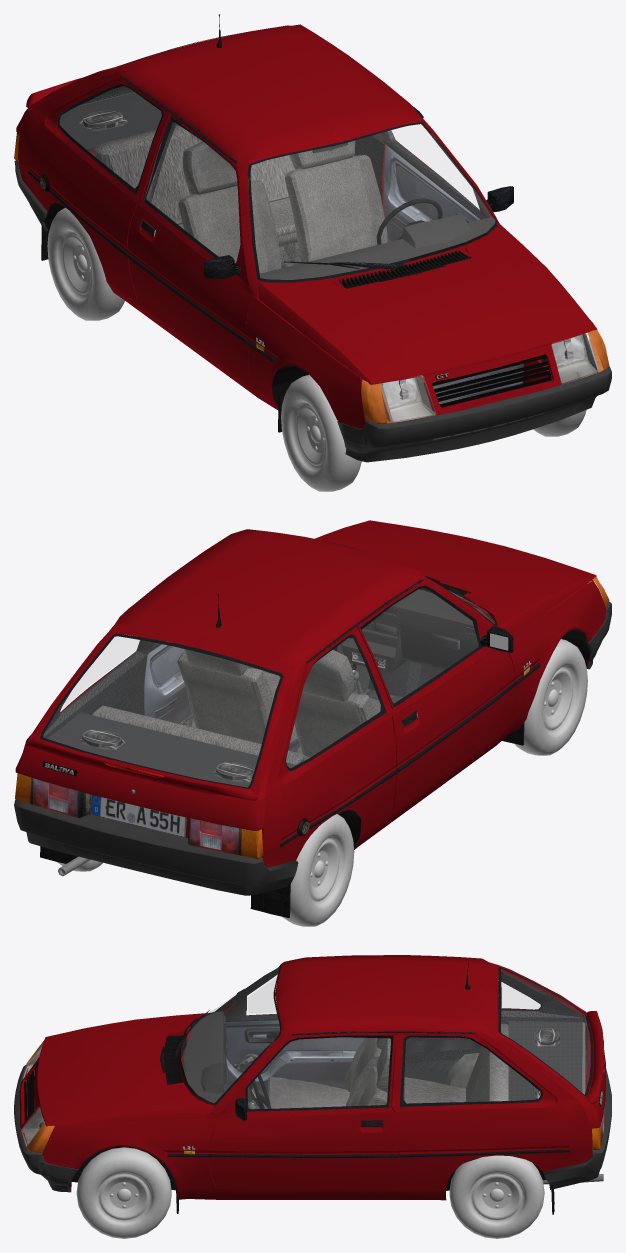
File: uploads_files_2875664_HatchBackLowPoly123.fbx
3 views of the same model, one above another, from view 1: azimuth 30°, elevation 25°; view 2: azimuth 150°, elevation 25°; view 3: azimuth 270°, elevation 25° (orthographic). The views are drawn at different scales.
Visible parts, largest first — view 1: chassis, salon, bonnet_ok, windscreen_ok, door_rf_ok, bump_front_ok, Quad_Wheel.003, door_lf_ok, Quad_Wheel.002, Plane, stekla_far, per_fari (+3 smaller); view 2: chassis, Boot, salon, door_rf_ok, bonnet_ok, bump_rear_ok, Quad_Wheel.002, Quad_Wheel.003, fari_zad, door_lf_ok, brizgov, bump_front_ok; view 3: chassis, door_lf_ok, salon, bonnet_ok, Boot, Quad_Wheel, door_rf_ok, Quad_Wheel.001, windscreen_ok, bump_rear_ok, bump_front_ok, stekla_far (+3 smaller).
Part boxes in pixels (x1,y1,x2,y2): chassis: (18,14,603,428); salon: (60,92,495,391); bonnet_ok: (257,223,597,384); windscreen_ok: (251,124,494,279); door_rf_ok: (126,113,251,381); bump_front_ok: (337,366,611,462); Quad_Wheel.003: (281,374,361,491); door_lf_ok: (382,117,513,241); Quad_Wheel.002: (47,207,124,320); Plane: (423,344,561,415); stekla_far: (361,324,609,423); per_fari: (361,332,603,423); chassis: (43,529,606,867); Boot: (15,623,299,831); salon: (47,589,495,787); door_rf_ok: (357,582,514,811); bonnet_ok: (315,520,596,634); bump_rear_ok: (14,800,298,895); Quad_Wheel.002: (282,814,354,926); Quad_Wheel.003: (515,639,587,755); fari_zad: (15,773,263,859); door_lf_ok: (144,640,253,723); brizgov: (40,723,524,917); bump_front_ok: (585,601,611,669); chassis: (19,955,592,1200); door_lf_ok: (209,1033,398,1189); salon: (182,1011,585,1151); bonnet_ok: (37,1012,213,1126); Boot: (486,962,605,1128); Quad_Wheel: (76,1147,171,1238); door_rf_ok: (223,973,364,1090); Quad_Wheel.001: (449,1155,544,1238); windscreen_ok: (181,968,279,1102); bump_rear_ok: (543,1068,611,1189); bump_front_ok: (14,1064,78,1192); stekla_far: (21,1040,54,1153).
Size of the model in its own units: 193 by 171 by 404.
